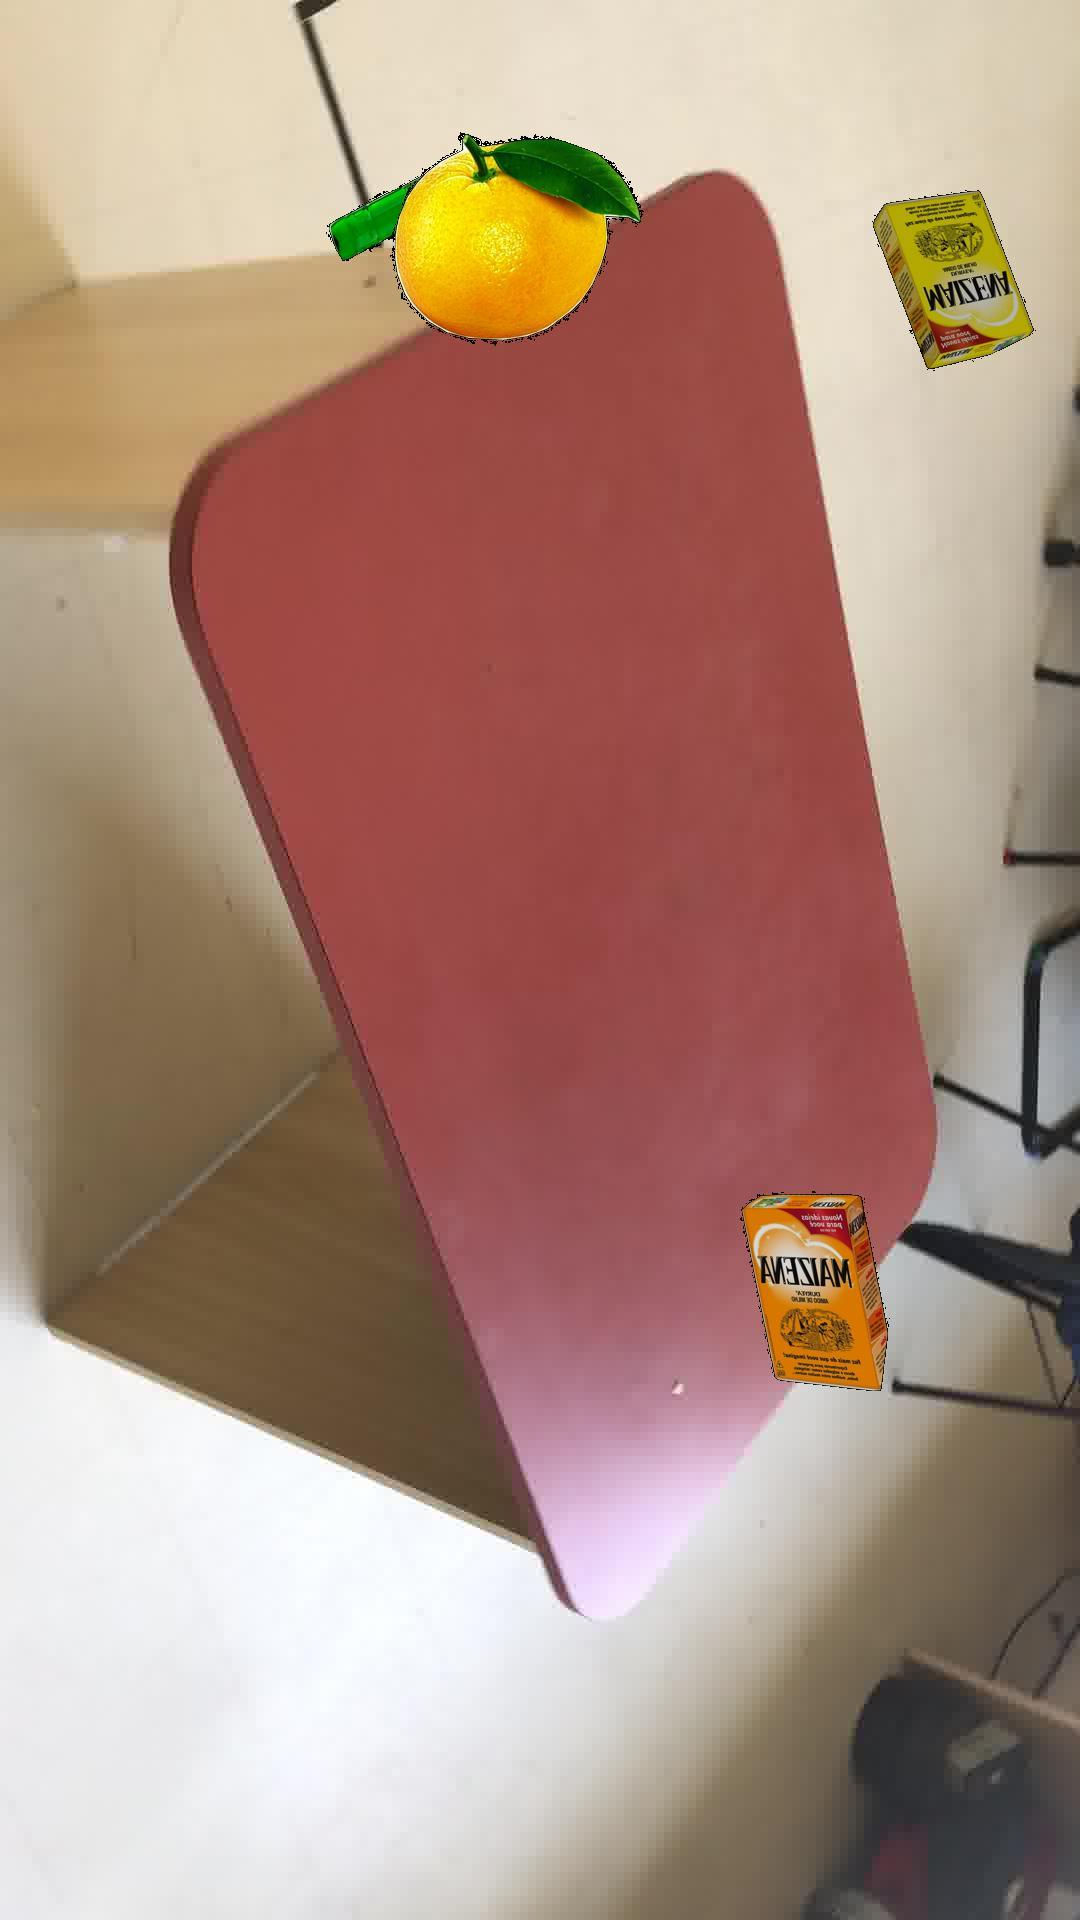cleaner: (326, 174, 419, 260)
orange: (389, 131, 642, 344)
